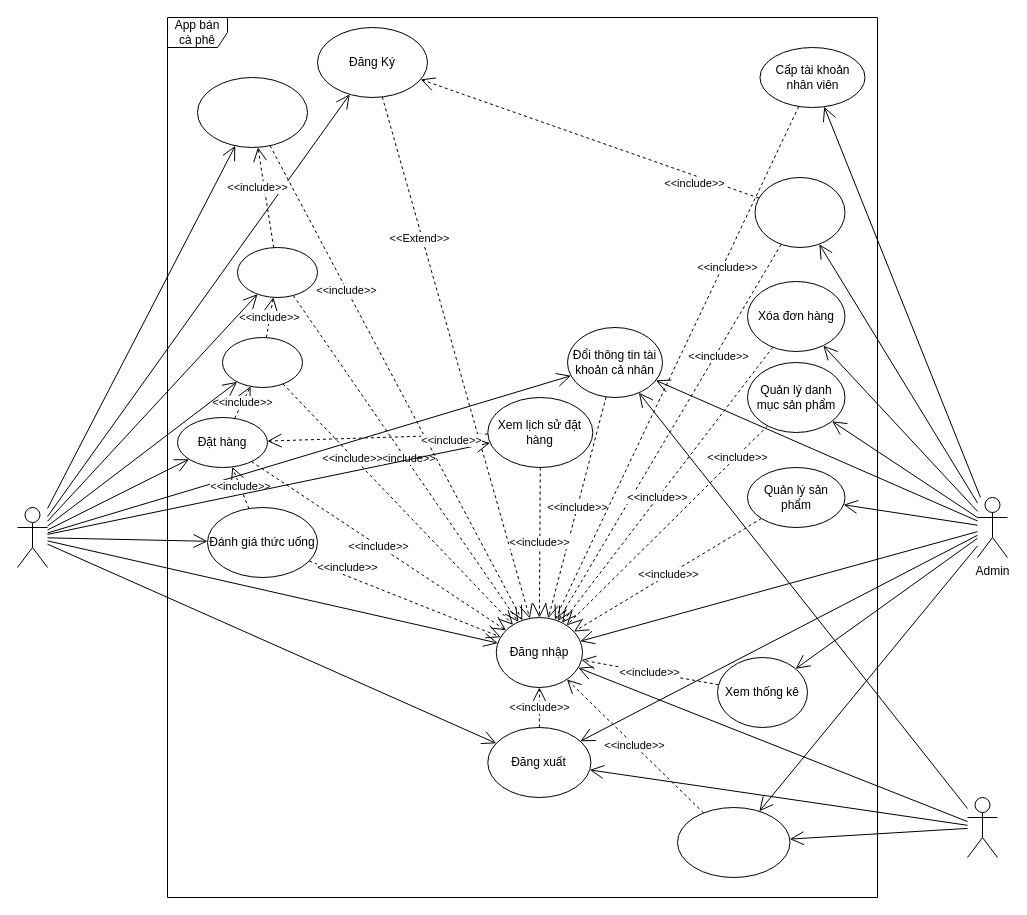
Some shapes in this 1027 by 915 pixel diagram are drawn without their labels. The centre of each missing label's shape, as x and y in pixels:
"Chỉnh sửa thông tin User" goes at point (799, 212).
"Nhân viên" goes at point (982, 827).
"Quản lý đơn chưa giao" goes at point (733, 842).
"Thêm sản phẩm vào giỏ" goes at point (277, 272).
"User" goes at point (32, 537).
"Xem giỏ hàng" goes at point (262, 362).
"Xem sản phẩm" goes at point (252, 112).
